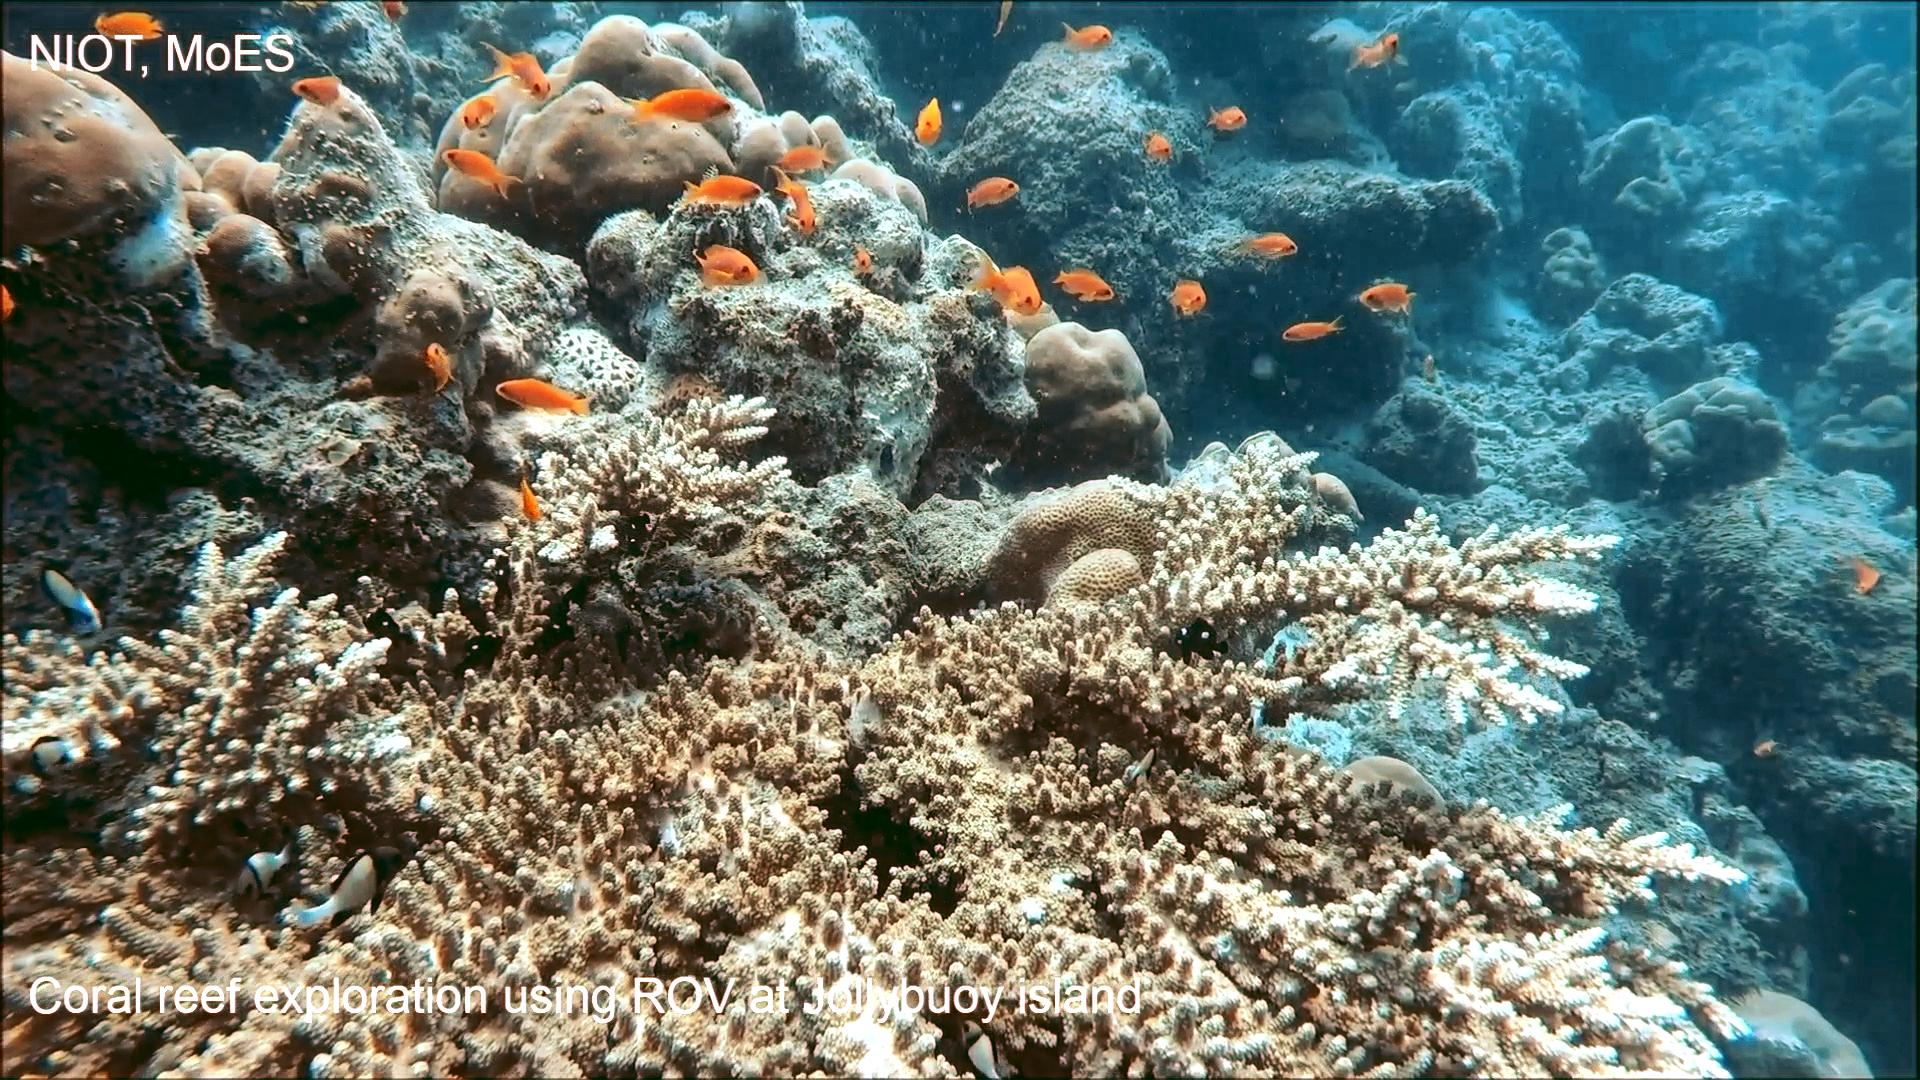Porites-Porites pukoensis: (430, 8, 795, 247), (0, 33, 181, 280)
